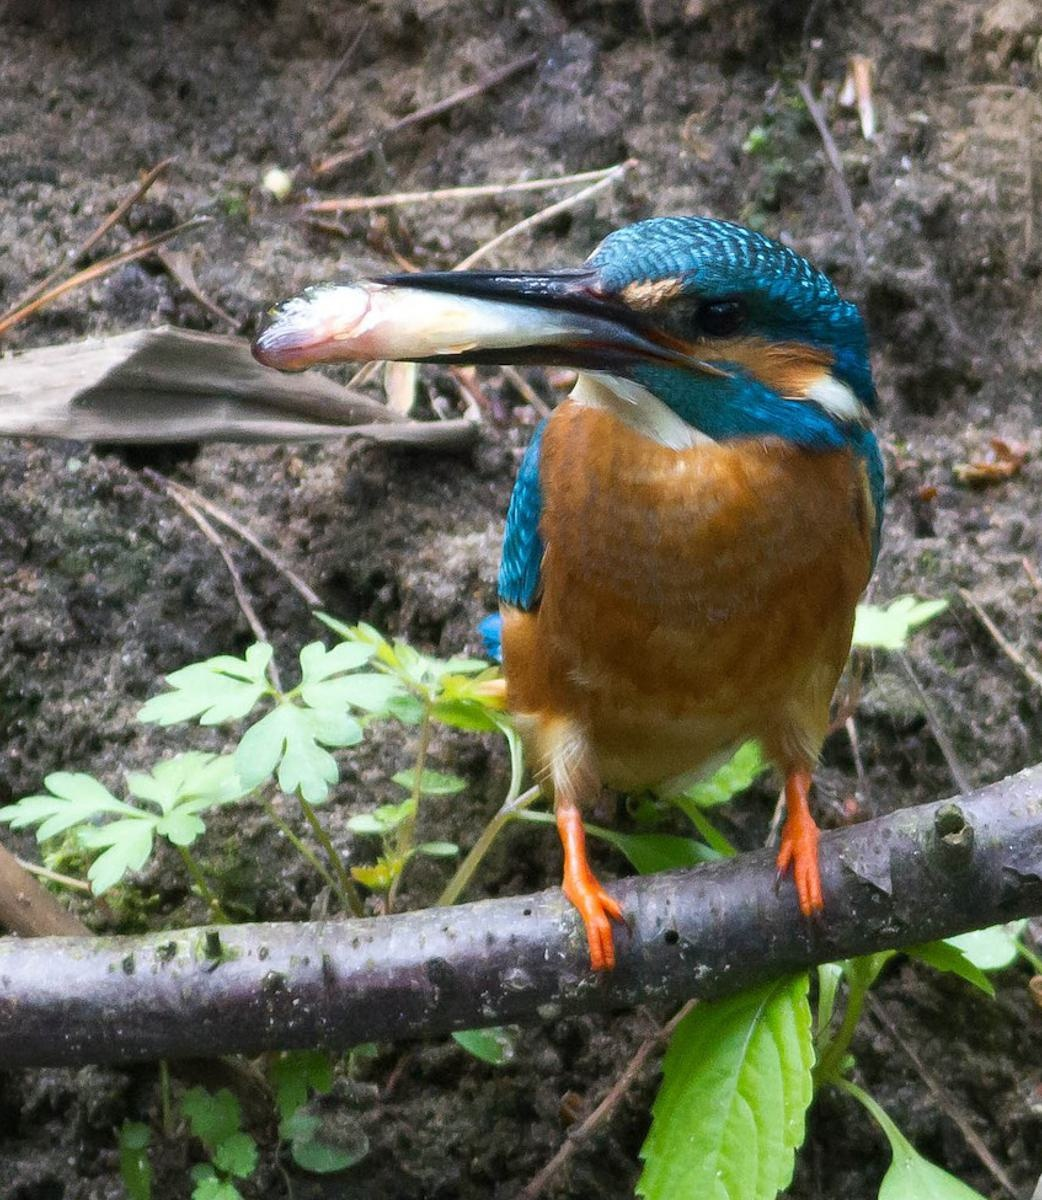kingfisher: (343, 183, 914, 924)
